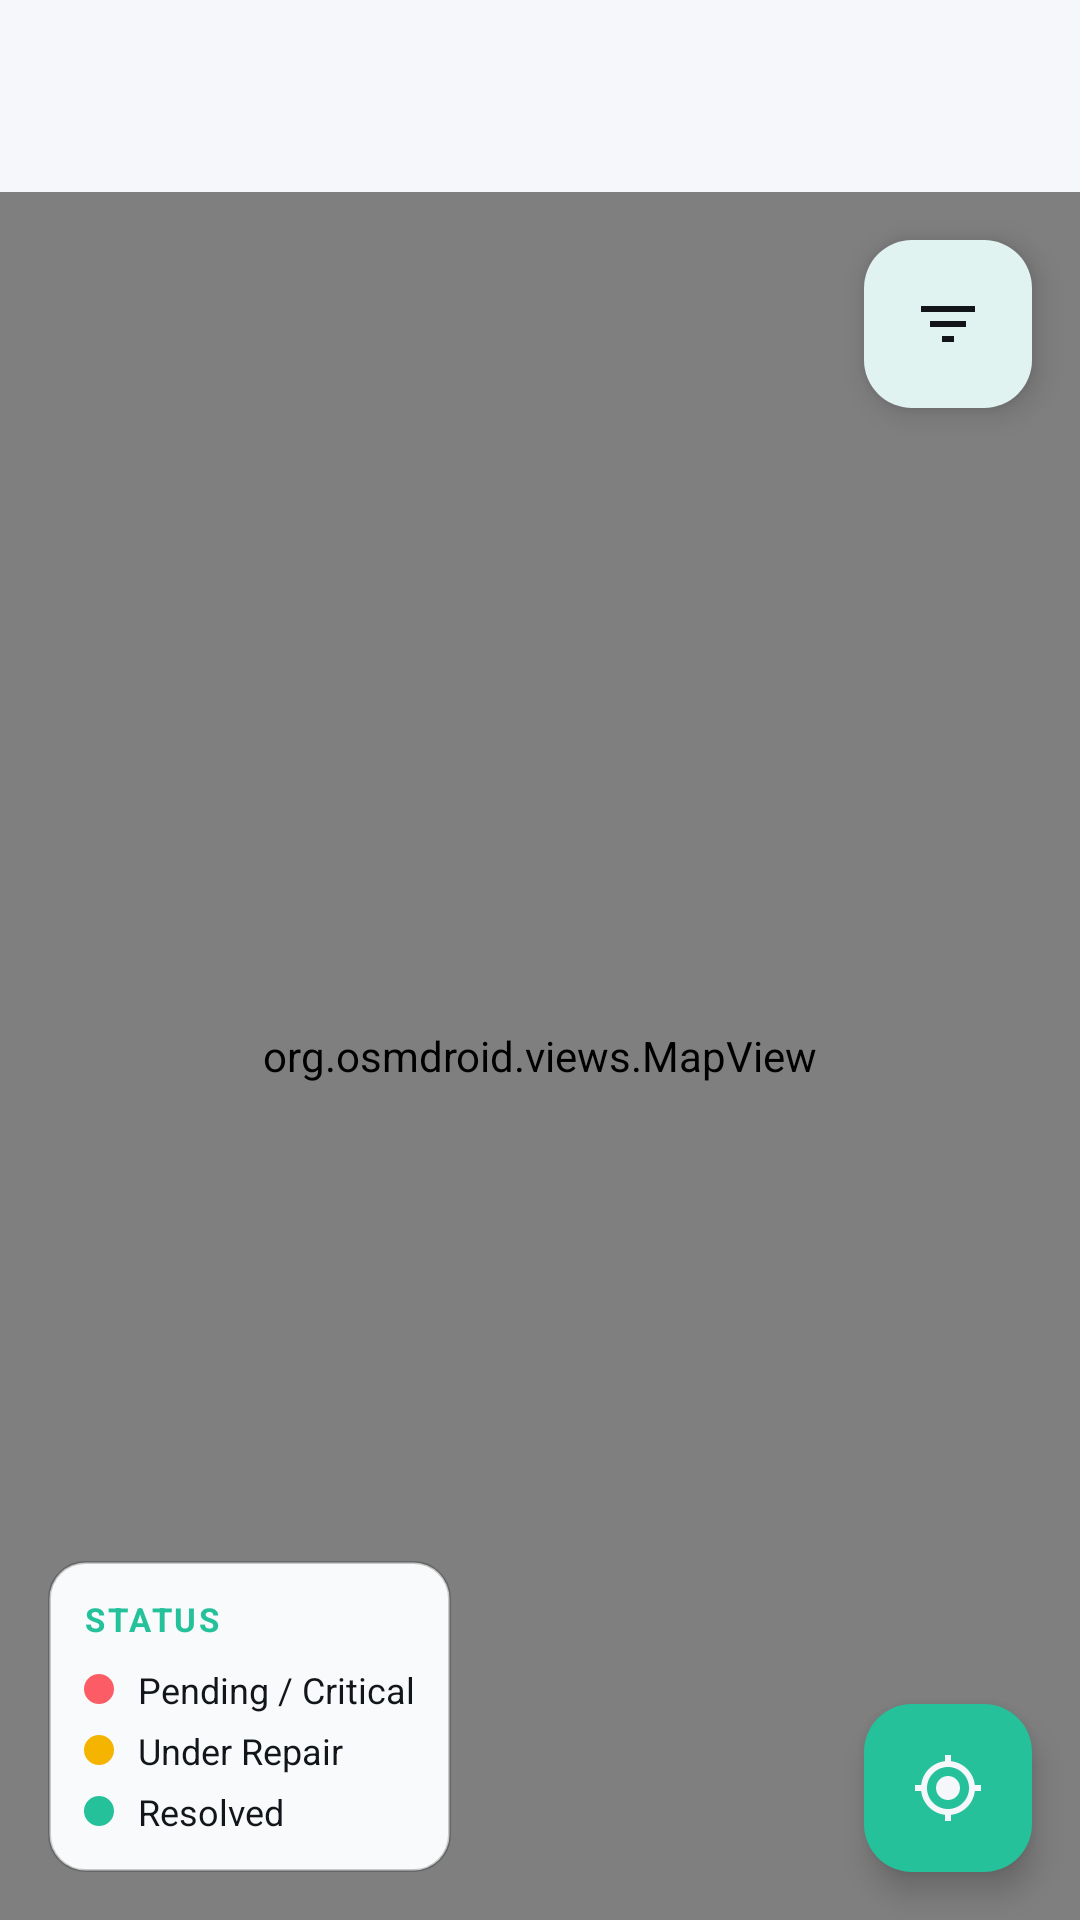

Named icons in this screenshot (1080 × 1920) and their centers, (x=x, y=y):
Center on my location: (x=948, y=1788)
Filter complaints: (x=948, y=324)
